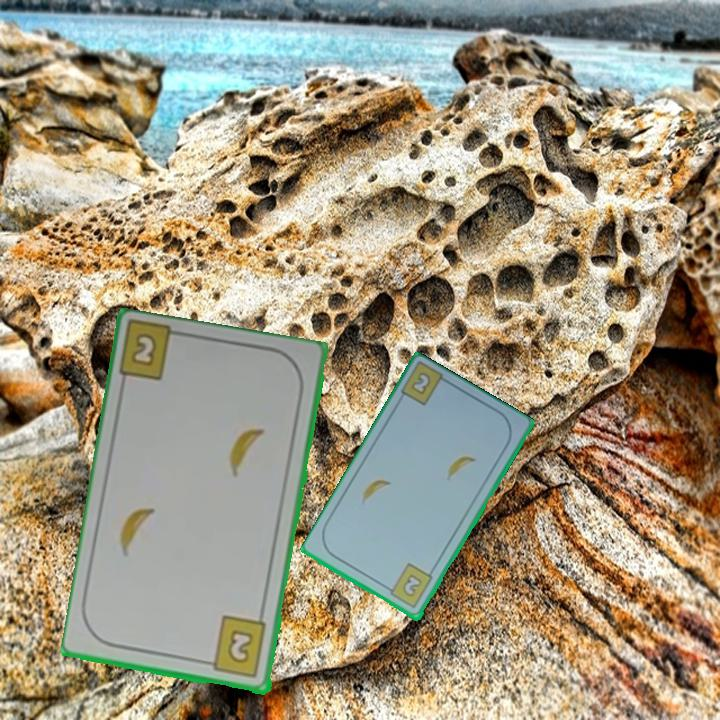2b: (201, 613, 270, 681), (382, 560, 436, 612), (128, 329, 160, 370), (407, 369, 434, 398)
